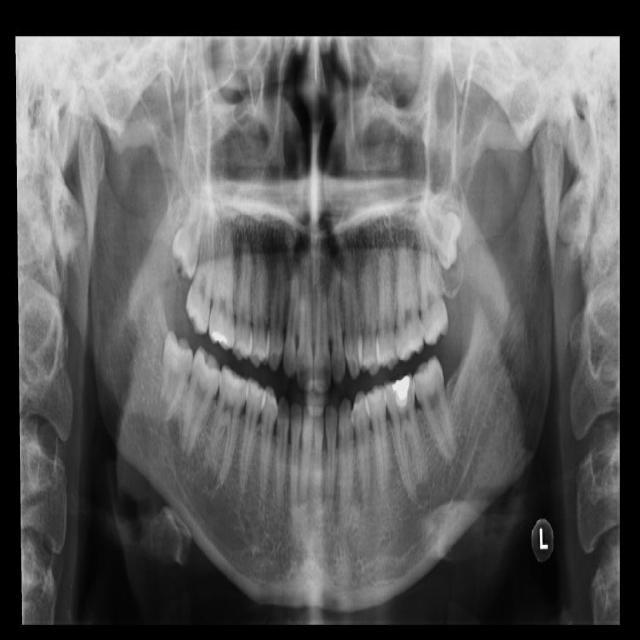3M ESPE Implant: (168, 148, 214, 282)
52: (378, 370, 424, 419), (208, 306, 236, 351)
73: (578, 558, 584, 572)
BioHorizons Implant: (414, 209, 451, 347)
BioLife Implant: (413, 180, 475, 271)
Blue Sky Bio Implant: (407, 354, 460, 467)
Caries: (181, 190, 230, 336)
Implant: (172, 345, 227, 458)
Keystone Dental Implant: (155, 329, 196, 424)
